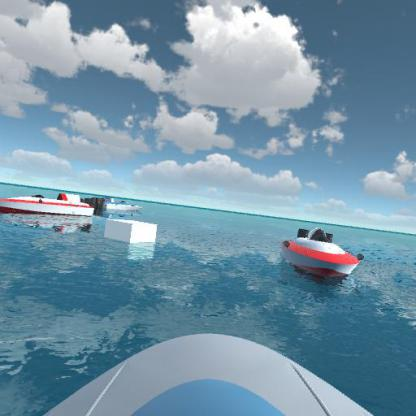usv1: (77, 190, 150, 218)
usv3: (274, 222, 369, 283), (0, 188, 104, 230)
